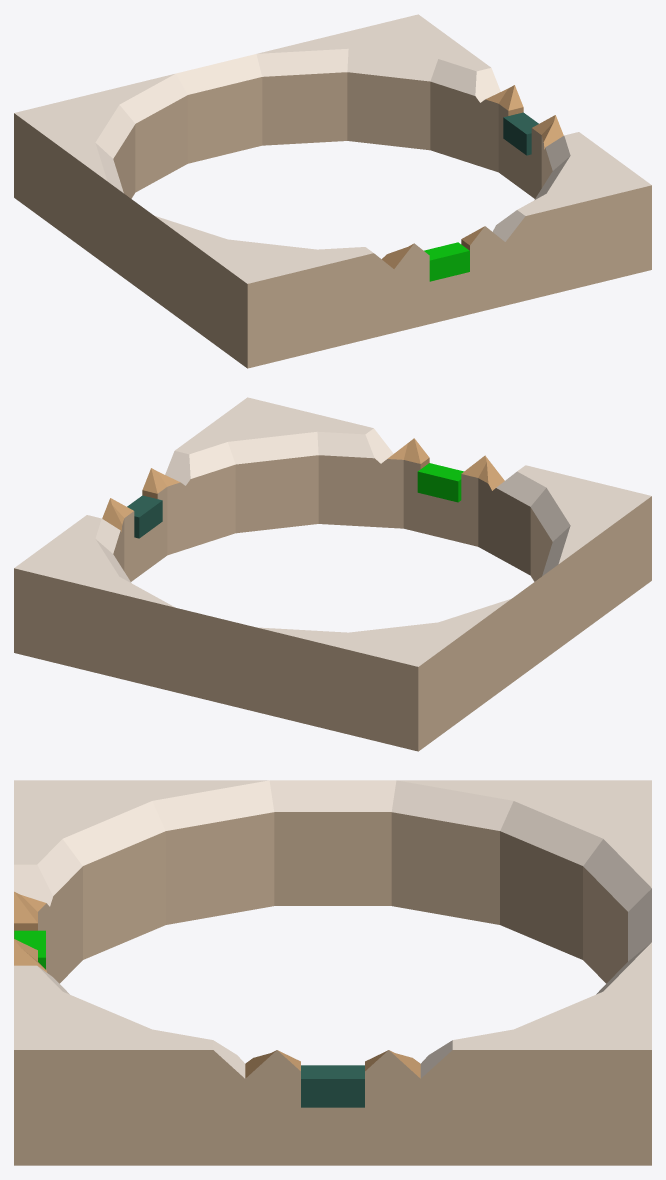
The model's file is Guide_90.glb.
3 views of the same model, one above another, from view 1: azimuth 30°, elevation 25°; view 2: azimuth 150°, elevation 25°; view 3: azimuth 270°, elevation 25° (orthographic). The views are drawn at different scales.
Visible parts, largest first — view 1: mergedBlocks(Clone); view 2: mergedBlocks(Clone); view 3: mergedBlocks(Clone).
Boxes of the visible parts, <box> form: mergedBlocks(Clone): <box>14,14,651,368</box>; mergedBlocks(Clone): <box>14,397,651,751</box>; mergedBlocks(Clone): <box>14,780,651,1165</box>.
Size of the model in its own units: 3 by 0.6 by 3.
